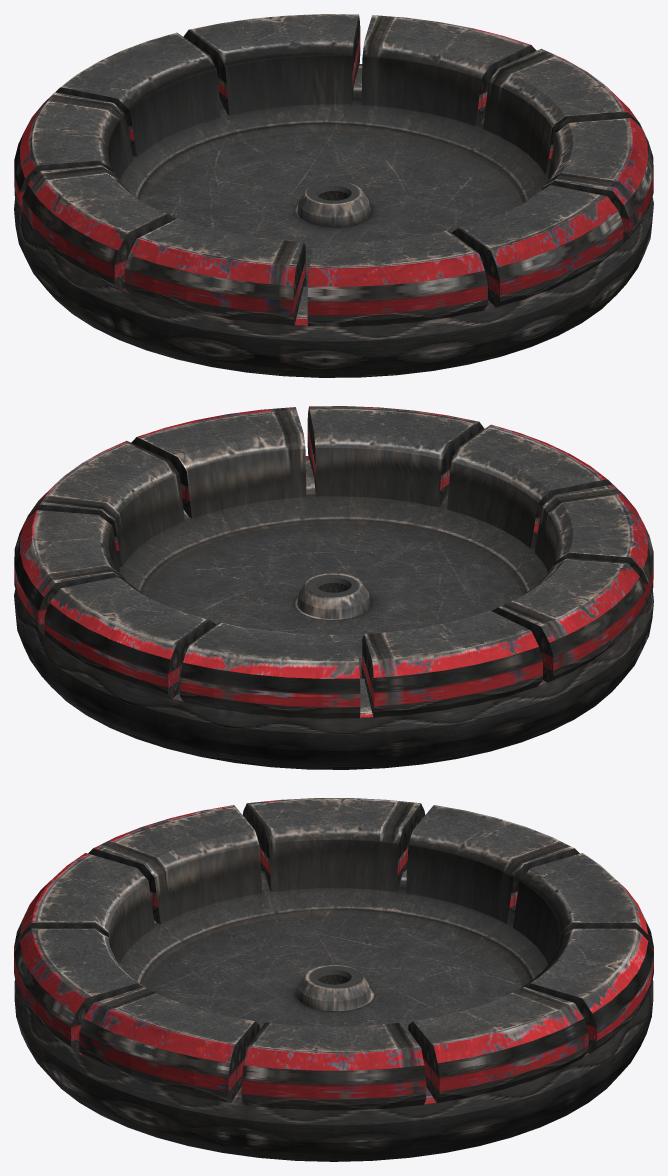
The model's file is RedFlagPod.glb.
3 renders of one model, top to bottom at view 1: azimuth 30°, elevation 25°; view 2: azimuth 150°, elevation 25°; view 3: azimuth 270°, elevation 25°, orthographic.
Visible parts, largest first — view 1: RedFlagPod; view 2: RedFlagPod; view 3: RedFlagPod.
Boxes of the visible parts, x1,y1,x2,y2 form: RedFlagPod: [14, 14, 653, 377]; RedFlagPod: [14, 406, 653, 769]; RedFlagPod: [14, 798, 653, 1161].
Bounding box in the file's own units: 0.8 × 0.15 × 0.7998.
Materials: 2 (2 with a texture image).
